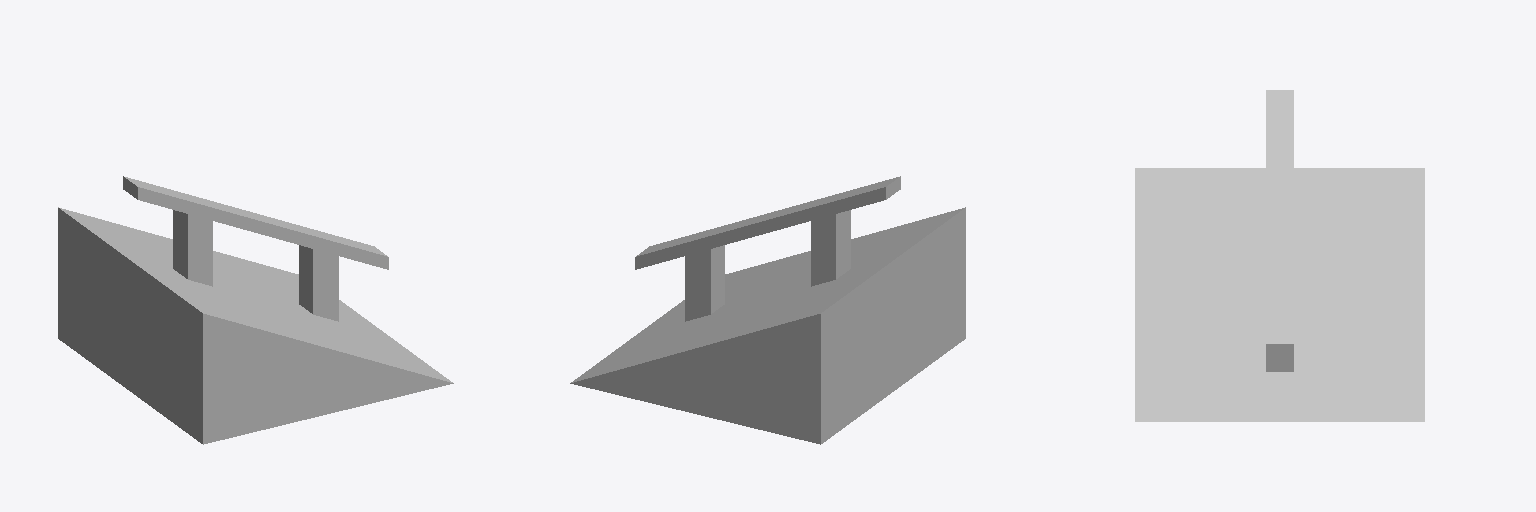
Rendered from Rail_Ramp_Short.obj.
3 renders of one model, left to right at view 1: azimuth 30°, elevation 25°; view 2: azimuth 150°, elevation 25°; view 3: azimuth 270°, elevation 25°, orthographic.
Visible parts, largest first — view 1: Rail_Ramp_Short; view 2: Rail_Ramp_Short; view 3: Rail_Ramp_Short.
Boxes of the visible parts, <box> form: Rail_Ramp_Short: <box>58,176,453,444</box>; Rail_Ramp_Short: <box>570,176,965,444</box>; Rail_Ramp_Short: <box>1135,90,1424,421</box>.
Bounding box in the file's own units: 10 × 8 × 10.